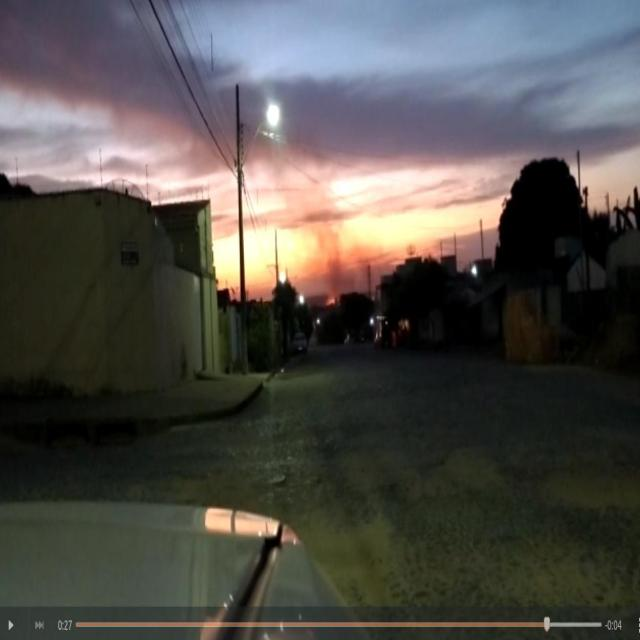Fire: (325, 294, 335, 306)
